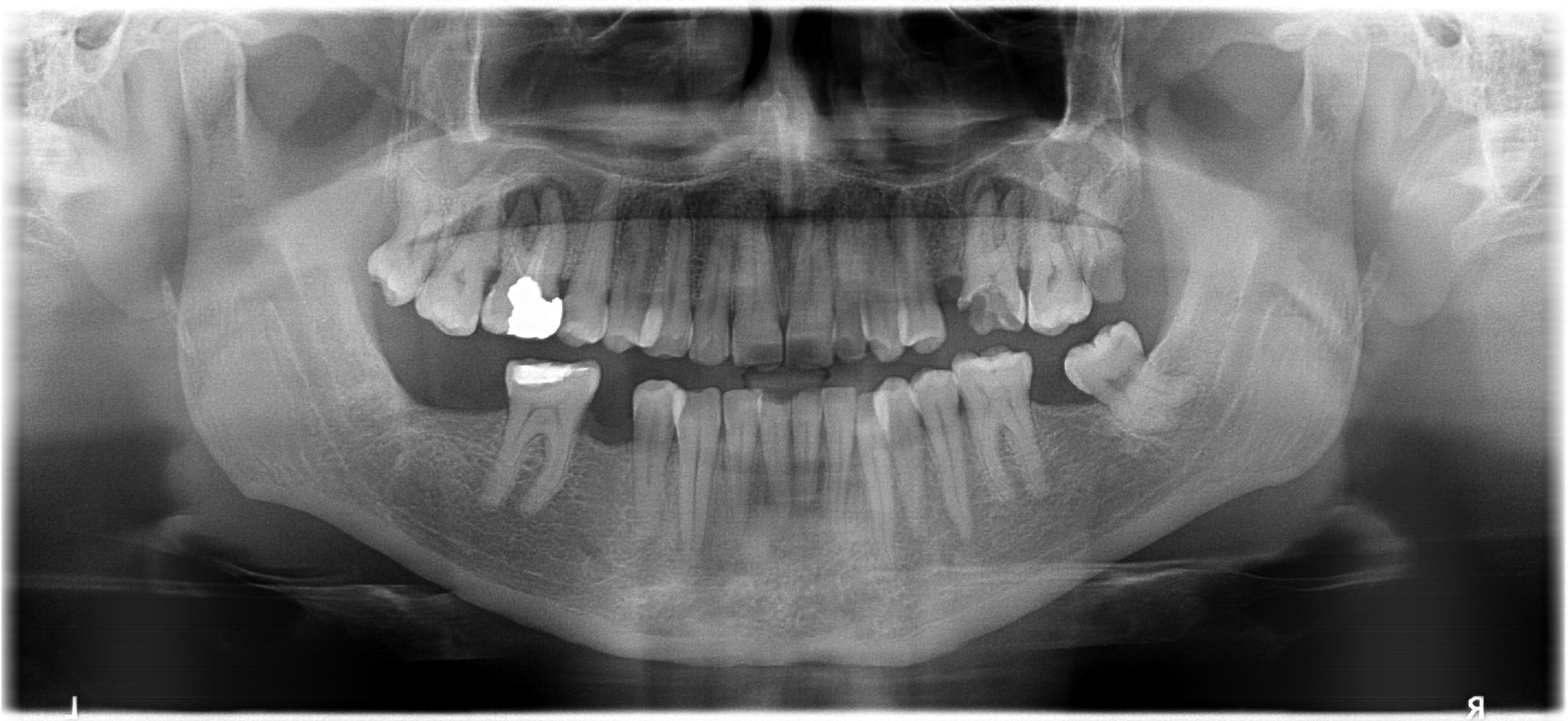Premolars: (518, 175, 1513, 511), (497, 73, 1458, 314), (312, 178, 883, 536), (558, 127, 1568, 316), (290, 138, 869, 335)
